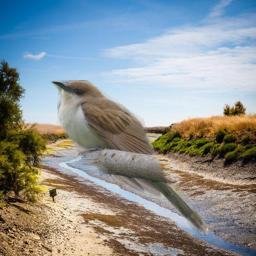Cuckoo: (50, 80, 211, 236)
